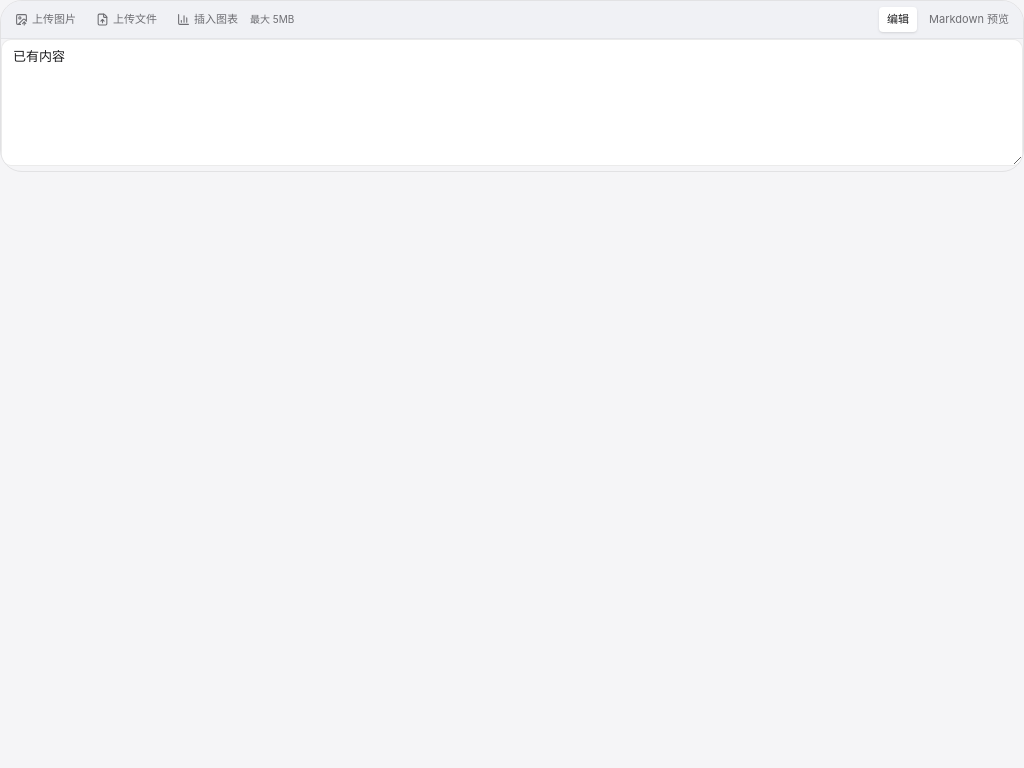
Test: chart insertion dialog › cancels without changing content and keeps chart insertion out of ordinary editors
Click the button "插入图表": (208, 19) left=169, top=7, right=246, bottom=32
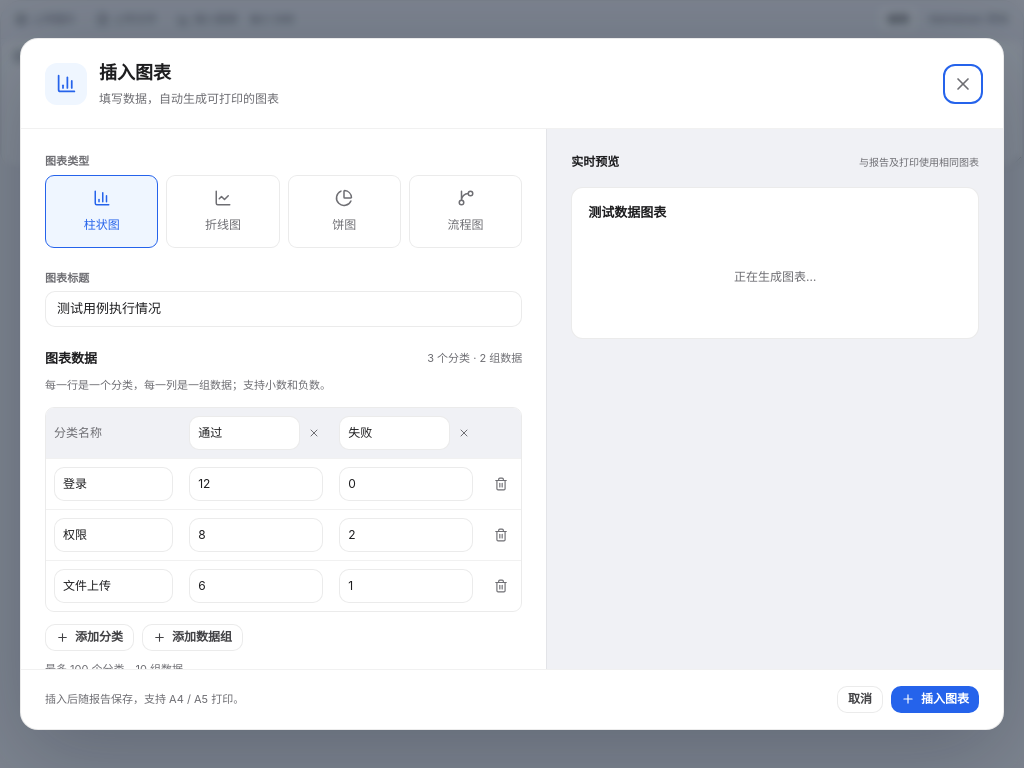
Click the button "取消": (860, 699) left=837, top=686, right=883, bottom=713
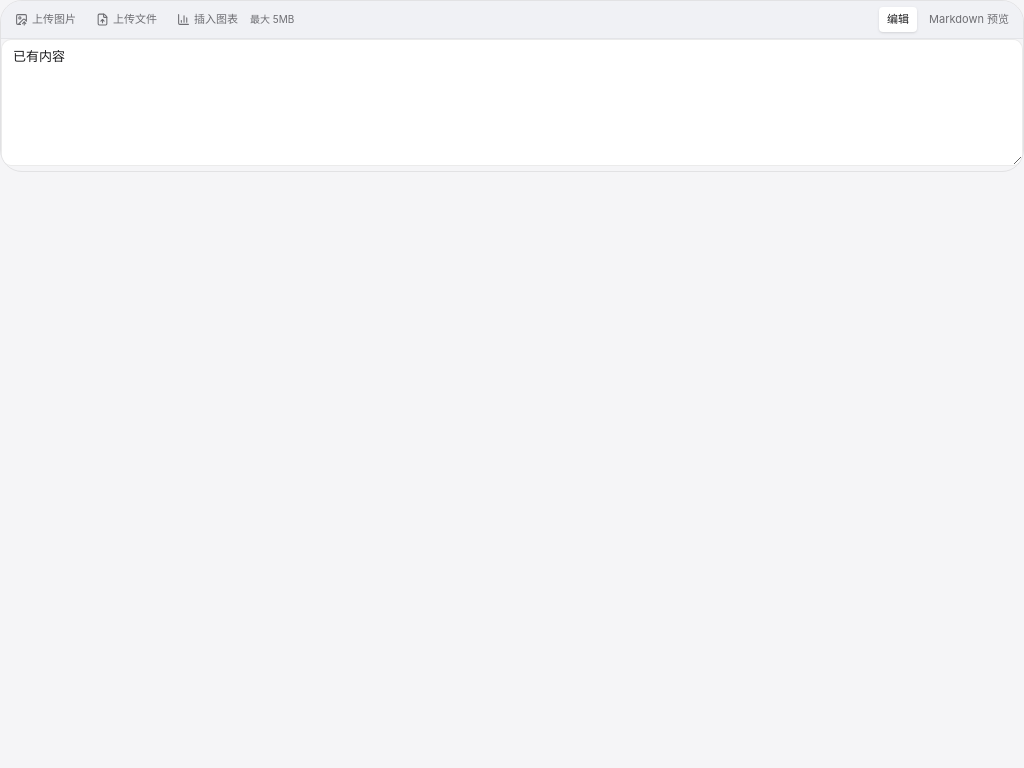
Check: the dialog is gone
